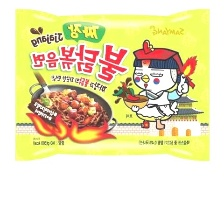snack: (7, 0, 218, 168)
